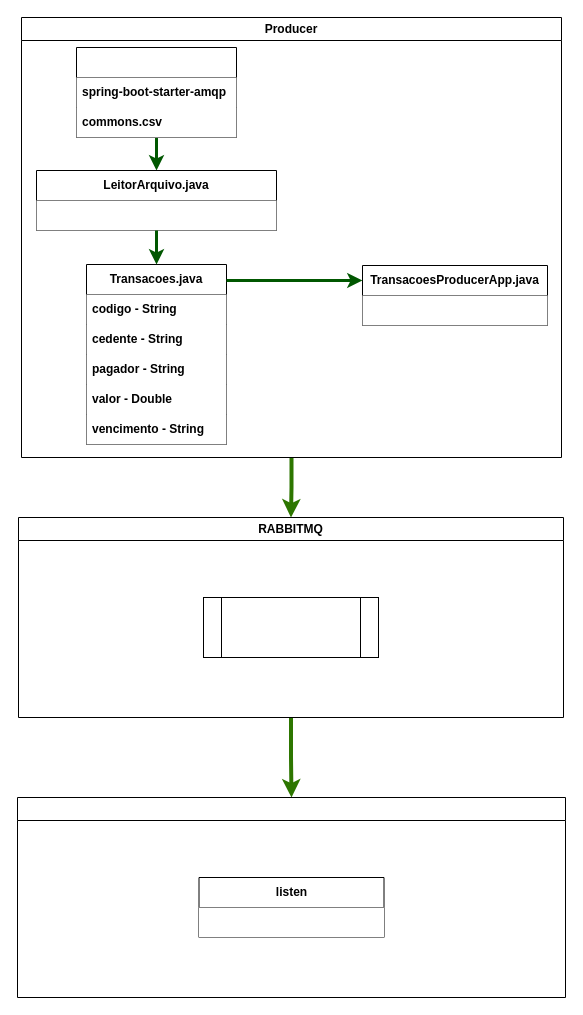
The diagram is 583 pixels wide and 1015 high, and some of its shapes have lost their labels. Here are the shapes that lost their labels. From the top down, the box of each, then its label:
(76, 46, 236, 138): POM.XML
(36, 200, 276, 230): public List <Transacao> lerArquivo()
(362, 295, 547, 325): public void criarFila()
(202, 596, 378, 658): transacoes.financeiras
(16, 796, 566, 998): Listener
(198, 907, 384, 937): public void listen(String in)
